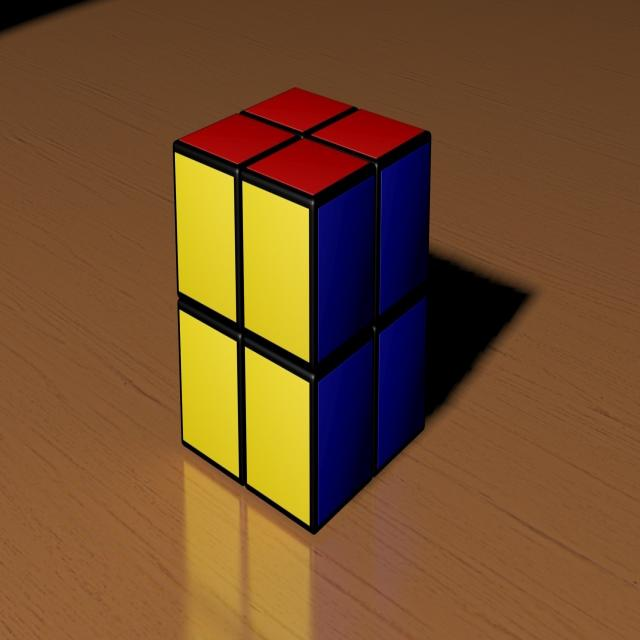cube: (180, 85, 432, 532)
